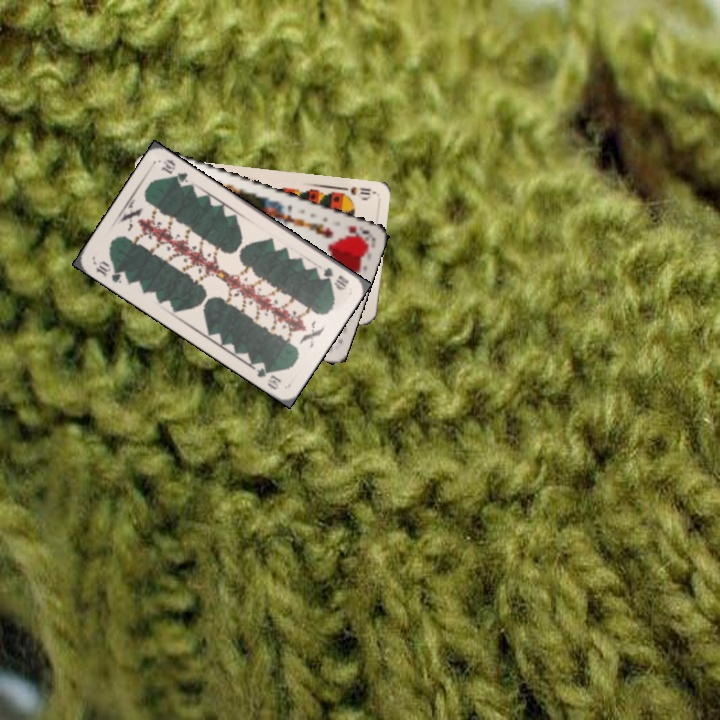G10: (319, 263, 352, 293), (91, 257, 124, 286)
HK: (344, 221, 372, 242)
S10: (335, 183, 376, 202)
